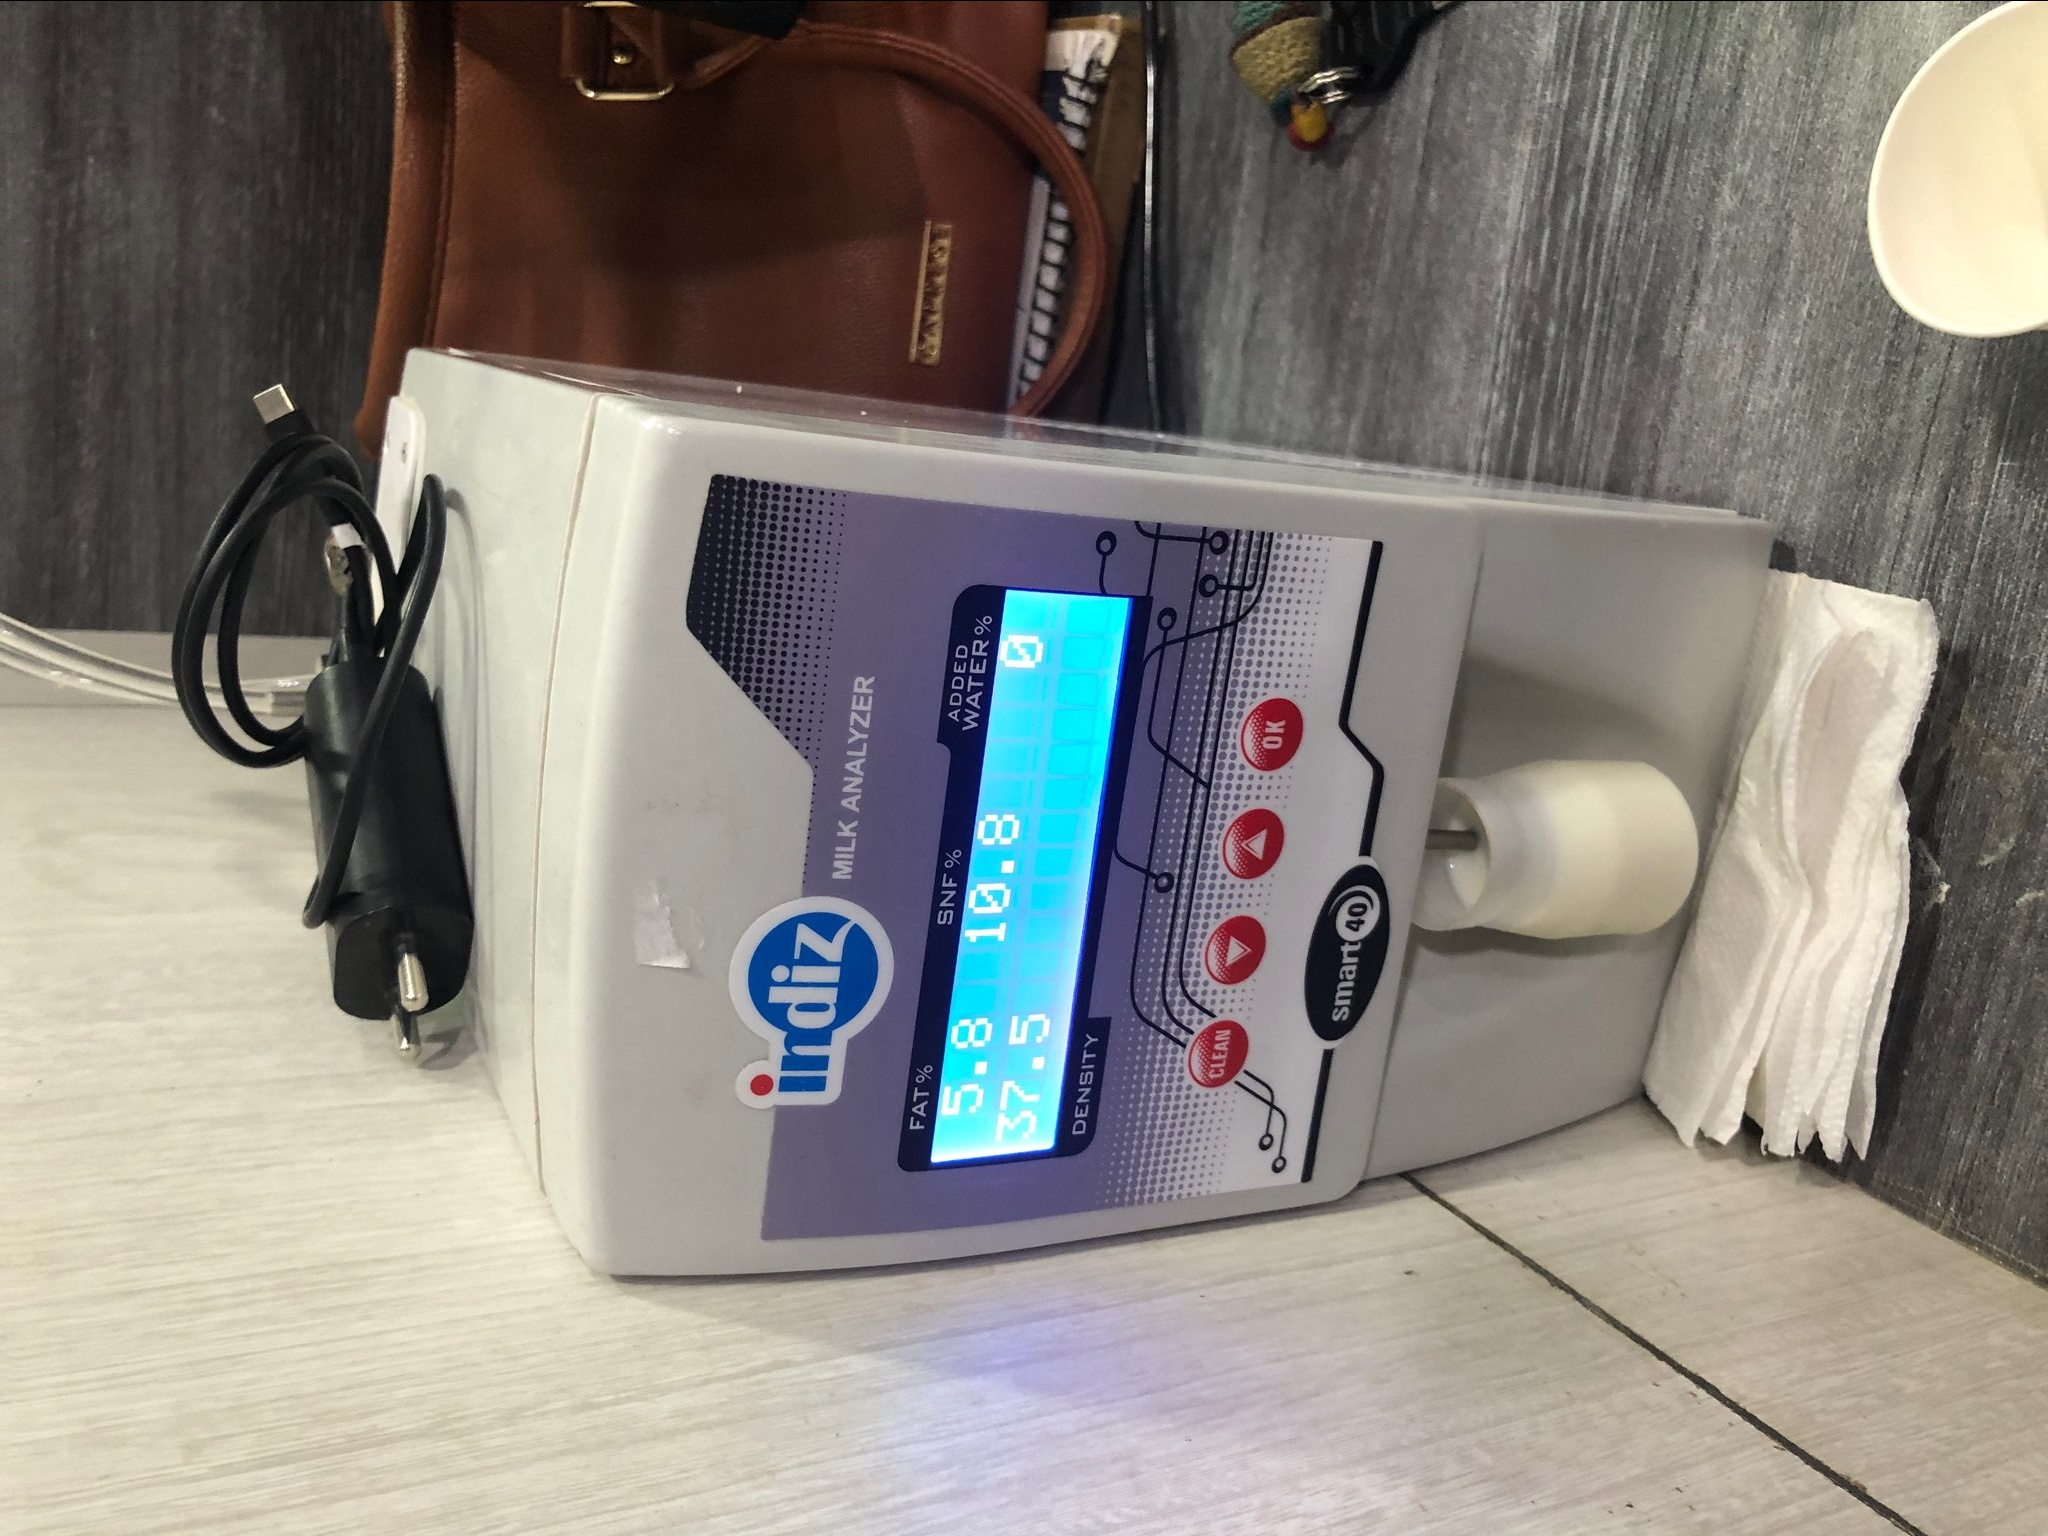lcd: (895, 573, 1122, 1196)
